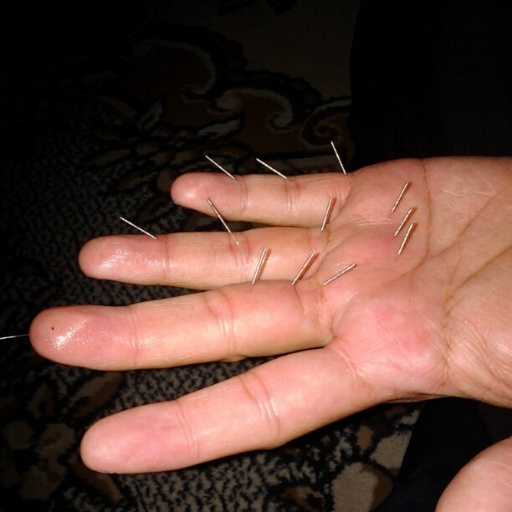hand: (28, 157, 510, 510)
